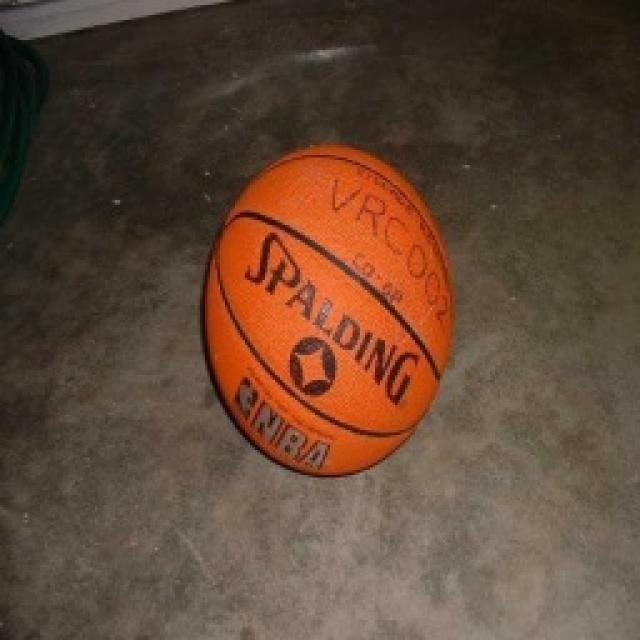basketball: (199, 131, 466, 484)
